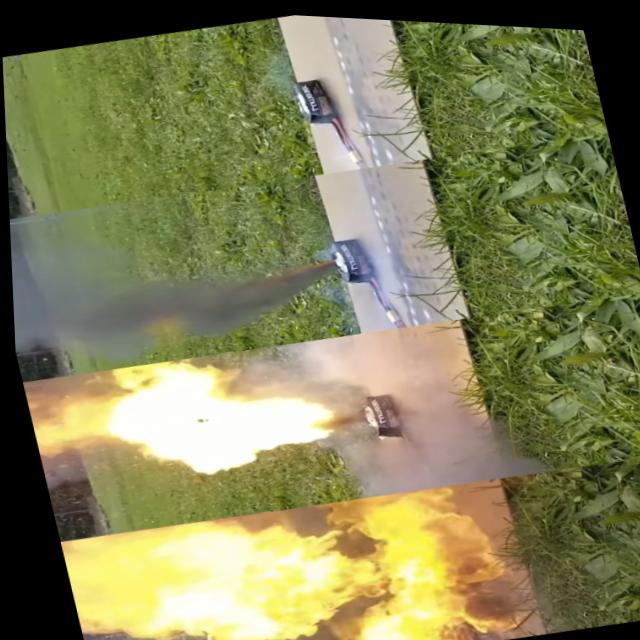Fire: (52, 450, 542, 640), (58, 335, 379, 522)
